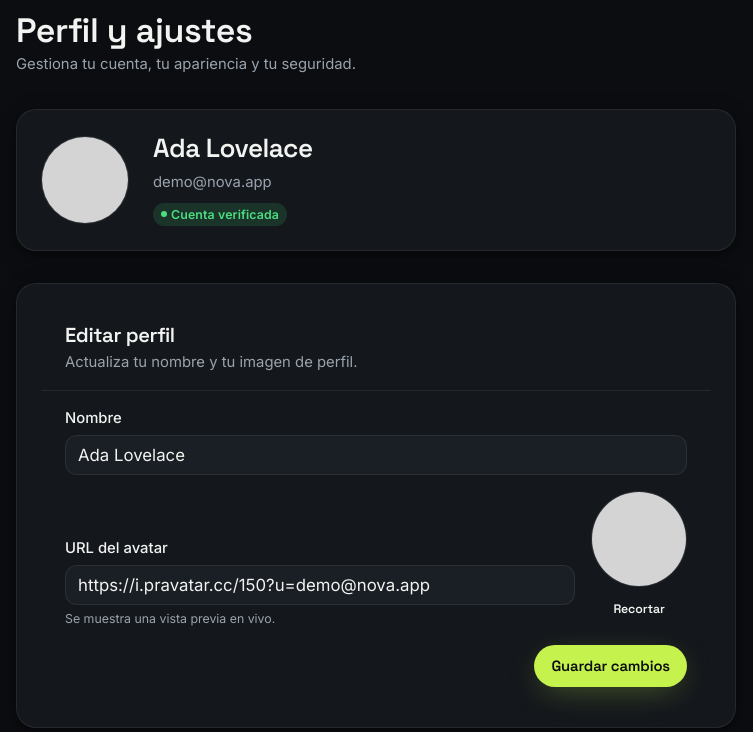
it: ProfilePage › muestra el error de validación de zod al enviar el nombre vacío
Clear the field labelled "Nombre" at (376, 455), box [78,436,674,474]
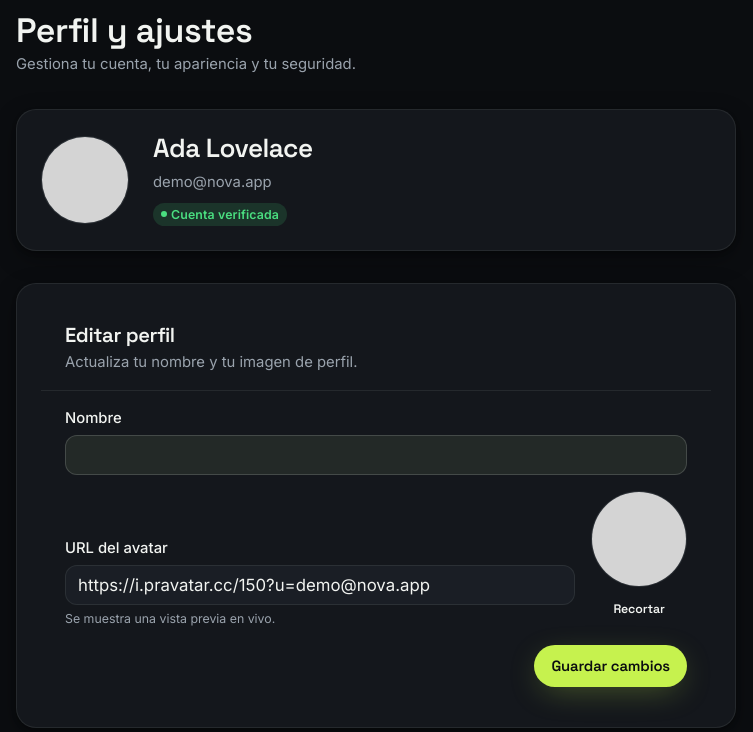
Click the button "Guardar cambios" at (611, 666), box [534,645,687,687]
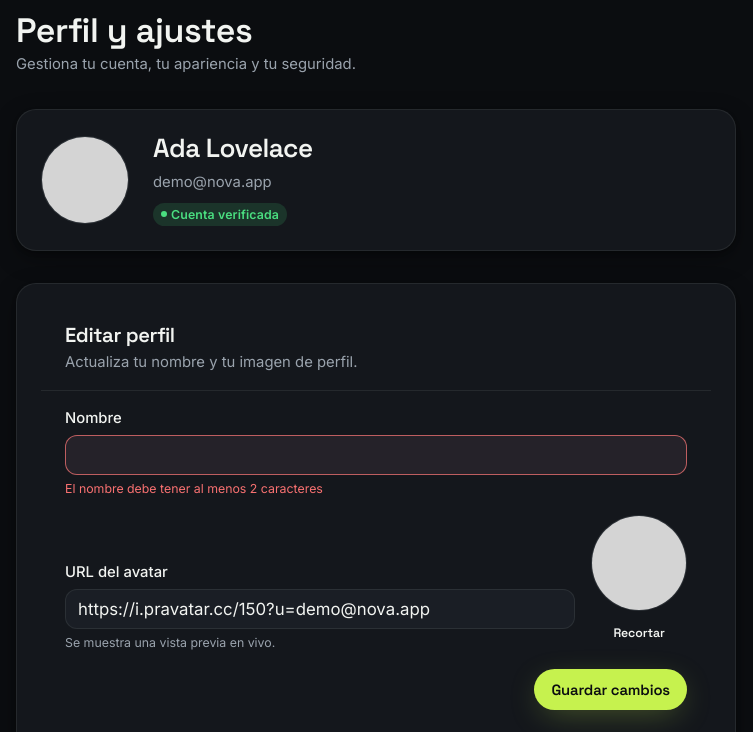
Result: the text "El nombre debe tener al menos 2 caracteres" is shown at [65,481,323,496]
